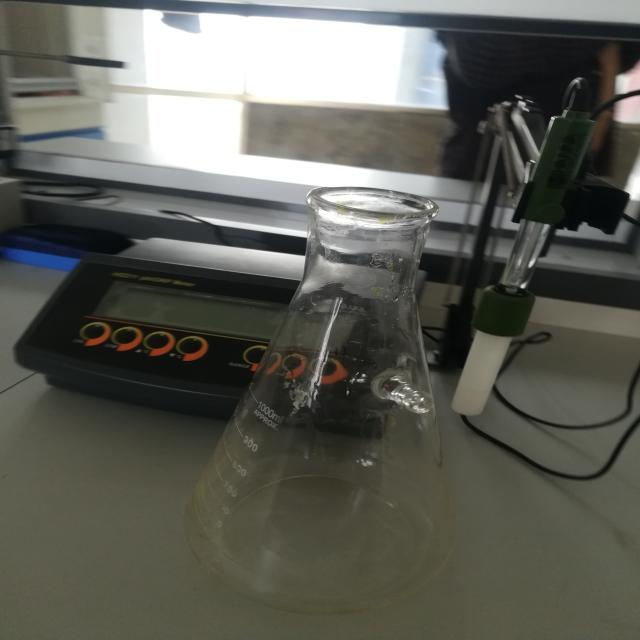Conical_Flask: (162, 163, 509, 634)
